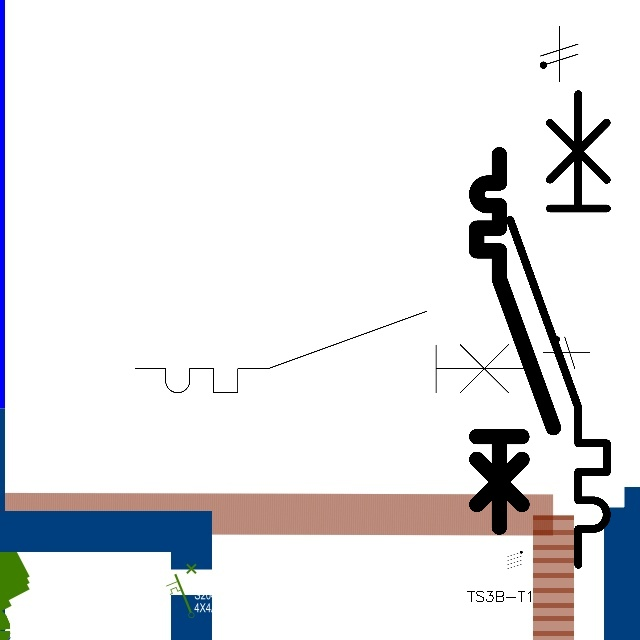interruptor_termomagnetico: (498, 82, 619, 577), (125, 301, 543, 403), (467, 145, 562, 536)
